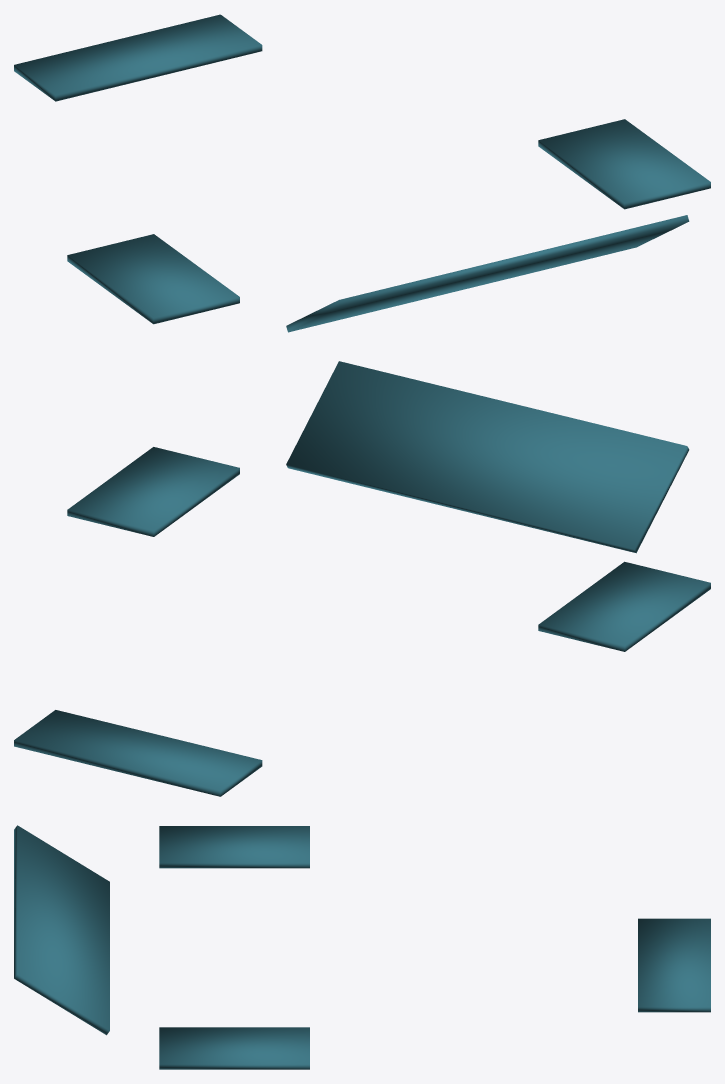
Rendered from scout_rover_glass.obj.
3 renders of one model, top to bottom at view 1: azimuth 30°, elevation 25°; view 2: azimuth 150°, elevation 25°; view 3: azimuth 270°, elevation 25°, orthographic. The views are drawn at different scales.
Parts seen in each view (by area): view 1: scout_rover_glass; view 2: scout_rover_glass; view 3: scout_rover_glass.
Boxes of the visible parts, x1,y1,x2,y2 form: scout_rover_glass: (14,14,710,332); scout_rover_glass: (14,361,710,796); scout_rover_glass: (14,825,710,1069).
Bounding box in the file's own units: 2.32 × 0.3115 × 2.87.
